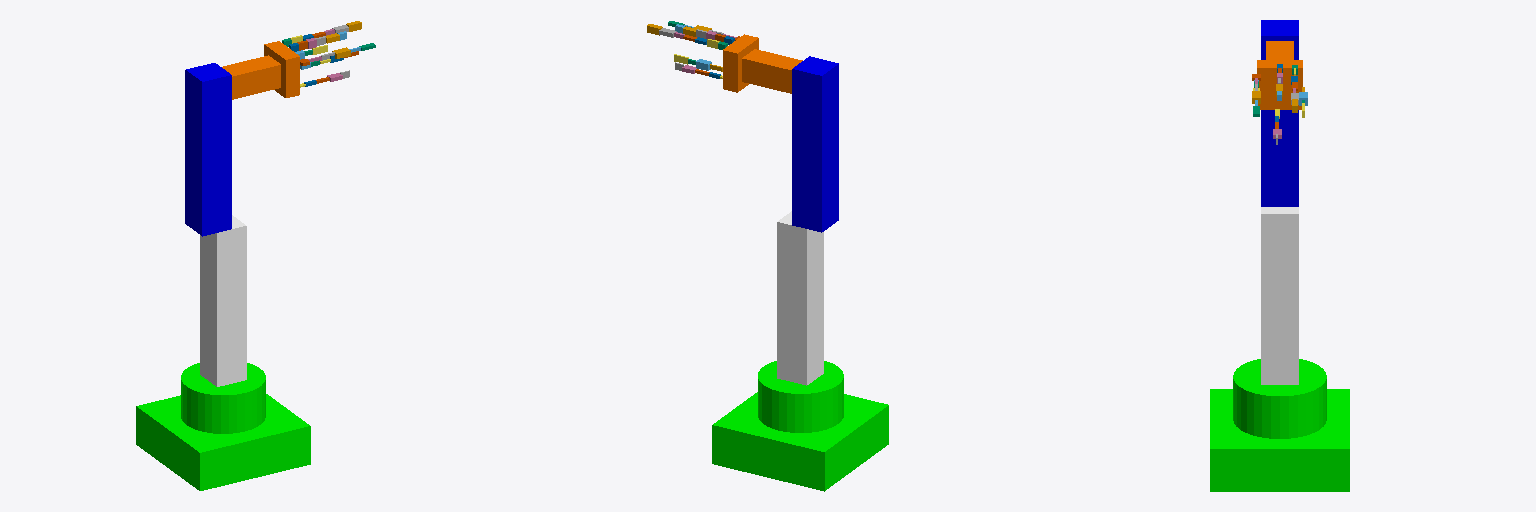
--- Render facts (derived) ---
The picture shows the robot from 3 angles, left to right: view 1: azimuth 30°, elevation 25°; view 2: azimuth 150°, elevation 25°; view 3: azimuth 270°, elevation 25°; orthographic projection.
Robot: robot — 38 links, 37 joints (34 revolute, 1 continuous, 2 fixed); root link base_link; default pose: every joint at zero.
Links seen in each view (by area): view 1: base_link, arm_link, support_link, wrist_link, palm_link; view 2: base_link, arm_link, support_link, wrist_link, palm_link; view 3: base_link, support_link, arm_link, palm_link, wrist_link.
Boxes of the visible links, left/top/right/bottom form: base_link: left=136, top=363, right=310, bottom=490; arm_link: left=185, top=63, right=231, bottom=236; support_link: left=200, top=215, right=246, bottom=386; wrist_link: left=222, top=55, right=280, bottom=99; palm_link: left=264, top=41, right=299, bottom=97; base_link: left=712, top=361, right=888, bottom=491; arm_link: left=792, top=56, right=838, bottom=232; support_link: left=777, top=211, right=823, bottom=385; wrist_link: left=742, top=49, right=802, bottom=93; palm_link: left=723, top=34, right=758, bottom=92; base_link: left=1210, top=359, right=1349, bottom=491; support_link: left=1261, top=207, right=1298, bottom=384; arm_link: left=1261, top=20, right=1298, bottom=206; palm_link: left=1257, top=60, right=1302, bottom=109; wrist_link: left=1266, top=41, right=1293, bottom=59.
Size in the robot's own frame: 1.35 by 0.75 by 2.55 metres.
Geometry: primitives only (box / cylinder / sphere), no mesh files.

The robot description file, URDF, robot "robot":
<?xml version='1.0' encoding='utf-8'?>
<robot name="robot">
  <link name="base_link">
    <visual>
      <origin xyz="0 0 0.125" rpy="0 0 0" />
      <geometry>
        <box size="0.75 0.75 0.25" />
      </geometry>
      <material name="green" />
    </visual>
    <visual>
      <origin xyz="0 0 0.375" rpy="0 0 0" />
      <geometry>
        <cylinder length="0.25" radius="0.25" />
      </geometry>
      <material name="green">
        <color rgba="0 1 0 1" />
      </material>
    </visual>
    <collision>
      <geometry>
        <box size="0.75 0.75 0.5" />
      </geometry>
    </collision>
    <inertial>
      <mass value="0.5" />
      <inertia ixx="0.034" ixy="0.0" ixz="0.0" iyy="0.034" iyz="0.0" izz="0.034" />
    </inertial>
  </link>
  <link name="support_link">
    <visual>
      <origin xyz="0 0 0.5" rpy="0 0 0" />
      <geometry>
        <box size="0.2 0.2 1" />
      </geometry>
      <material name="white">
        <color rgba="1 1 1 1" />
      </material>
    </visual>
    <collision>
      <geometry>
        <box size="0.2 0.2 1" />
      </geometry>
    </collision>
    <inertial>
      <mass value="0.1" />
      <inertia ixx="0.01" ixy="0.0" ixz="0.0" iyy="0.01" iyz="0.0" izz="0.01" />
    </inertial>
  </link>
  <joint name="support_joint" type="continuous">
    <origin xyz="0 0 0.5" rpy="0 0 0" />
    <parent link="base_link" />
    <child link="support_link" />
    <axis xyz="0 0 1" />
  </joint>
  <link name="arm_link">
    <visual>
      <origin xyz="0 0 0.5" rpy="0 0 0" />
      <geometry>
        <box size="0.2 0.2 1" />
      </geometry>
      <material name="blue">
        <color rgba="0 0 1 1" />
      </material>
    </visual>
    <collision>
      <geometry>
        <box size="0.2 0.2 1" />
      </geometry>
    </collision>
    <inertial>
      <mass value="0.1" />
      <inertia ixx="0.01" ixy="0.0" ixz="0.0" iyy="0.01" iyz="0.0" izz="0.01" />
    </inertial>
  </link>
  <joint name="arm_joint" type="revolute">
    <origin xyz="-0.1 0 1" rpy="0 0 0" />
    <parent link="support_link" />
    <child link="arm_link" />
    <axis xyz="0 1 0" />
    <limit lower="-3.14" upper="3.14" effort="1.0" velocity="1.0" />
  </joint>
  <link name="wrist_link">
    <visual>
      <origin xyz="0 0 0.25" rpy="0 0 0" />
      <geometry>
        <box size="0.15 0.15 0.5" />
      </geometry>
      <material name="orange">
        <color rgba="1 0.5 0 1" />
      </material>
    </visual>
    <collision>
      <geometry>
        <box size="0.15 0.15 0.5" />
      </geometry>
    </collision>
    <inertial>
      <mass value="0.1" />
      <inertia ixx="0.01" ixy="0.0" ixz="0.0" iyy="0.01" iyz="0.0" izz="0.01" />
    </inertial>
  </link>
  <joint name="wrist_joint" type="fixed">
    <origin xyz="0 0 0.9" rpy="0 1.571 0" />
    <parent link="arm_link" />
    <child link="wrist_link" />
  </joint>
  <link name="palm_link">
    <visual>
      <origin xyz="0 0 0.05" rpy="0 0 0" />
      <geometry>
        <box size="0.25 0.25 0.1" />
      </geometry>
      <material name="orange" />
    </visual>
    <collision>
      <geometry>
        <box size="0.25 0.25 0.1" />
      </geometry>
    </collision>
    <inertial>
      <mass value="0.1" />
      <inertia ixx="0.01" ixy="0.0" ixz="0.0" iyy="0.01" iyz="0.0" izz="0.01" />
    </inertial>
  </link>
  <joint name="palm_joint" type="fixed">
    <origin xyz="0 0 0.45" rpy="0 0 0" />
    <parent link="wrist_link" />
    <child link="palm_link" />
  </joint>
  <link name="finger_link_0_0">
    <visual>
      <origin xyz="0 0 0.0265" rpy="0 0 0" />
      <geometry>
        <box size="0.021 0.049 0.053" />
      </geometry>
    </visual>
    <collision>
      <geometry>
        <box size="0.021 0.049 0.053" />
      </geometry>
    </collision>
    <inertial>
      <mass value="0.016" />
      <inertia ixx="0.001" iyy="0.001" izz="0.001" ixy="0" ixz="0" iyz="0" />
    </inertial>
  </link>
  <joint name="finger_joint_palm_link_to_finger_link_0_0" type="revolute">
    <origin xyz="-0.08 -0.125 0.1" rpy="0 0 0" />
    <parent link="palm_link" />
    <child link="finger_link_0_0" />
    <axis xyz="1.0 0.0 0.0" />
    <limit lower="-3.142" upper="3.142" effort="10" velocity="10" />
  </joint>
  <link name="finger_link_0_1">
    <visual>
      <origin xyz="0 0 0.0435" rpy="0 0 0" />
      <geometry>
        <box size="0.024 0.012 0.087" />
      </geometry>
    </visual>
    <collision>
      <geometry>
        <box size="0.024 0.012 0.087" />
      </geometry>
    </collision>
    <inertial>
      <mass value="0.008" />
      <inertia ixx="0.001" iyy="0.001" izz="0.001" ixy="0" ixz="0" iyz="0" />
    </inertial>
  </link>
  <joint name="finger_joint_finger_link_0_0_to_finger_link_0_1" type="revolute">
    <origin xyz="0.0 0.0 0.053" rpy="0 0 0" />
    <parent link="finger_link_0_0" />
    <child link="finger_link_0_1" />
    <axis xyz="1.0 0.0 0.0" />
    <limit lower="-3.142" upper="3.142" effort="10" velocity="10" />
  </joint>
  <link name="finger_link_0_2">
    <visual>
      <origin xyz="0 0 0.0455" rpy="0 0 0" />
      <geometry>
        <box size="0.034 0.014 0.091" />
      </geometry>
    </visual>
    <collision>
      <geometry>
        <box size="0.034 0.014 0.091" />
      </geometry>
    </collision>
    <inertial>
      <mass value="0.013" />
      <inertia ixx="0.001" iyy="0.001" izz="0.001" ixy="0" ixz="0" iyz="0" />
    </inertial>
  </link>
  <joint name="finger_joint_finger_link_0_1_to_finger_link_0_2" type="revolute">
    <origin xyz="0.0 0.0 0.087" rpy="0 0 0" />
    <parent link="finger_link_0_1" />
    <child link="finger_link_0_2" />
    <axis xyz="1.0 0.0 0.0" />
    <limit lower="-3.142" upper="3.142" effort="10" velocity="10" />
  </joint>
  <link name="finger_link_0_3">
    <visual>
      <origin xyz="0 0 0.0475" rpy="0 0 0" />
      <geometry>
        <box size="0.036 0.049 0.095" />
      </geometry>
    </visual>
    <collision>
      <geometry>
        <box size="0.036 0.049 0.095" />
      </geometry>
    </collision>
    <inertial>
      <mass value="0.05" />
      <inertia ixx="0.001" iyy="0.001" izz="0.001" ixy="0" ixz="0" iyz="0" />
    </inertial>
  </link>
  <joint name="finger_joint_finger_link_0_2_to_finger_link_0_3" type="revolute">
    <origin xyz="0.0 0.0 0.091" rpy="0 0 0" />
    <parent link="finger_link_0_2" />
    <child link="finger_link_0_3" />
    <axis xyz="1.0 0.0 0.0" />
    <limit lower="-3.142" upper="3.142" effort="10" velocity="10" />
  </joint>
  <link name="finger_link_0_4">
    <visual>
      <origin xyz="0 0 0.04" rpy="0 0 0" />
      <geometry>
        <box size="0.02 0.012 0.08" />
      </geometry>
    </visual>
    <collision>
      <geometry>
        <box size="0.02 0.012 0.08" />
      </geometry>
    </collision>
    <inertial>
      <mass value="0.006" />
      <inertia ixx="0.001" iyy="0.001" izz="0.001" ixy="0" ixz="0" iyz="0" />
    </inertial>
  </link>
  <joint name="finger_joint_finger_link_0_3_to_finger_link_0_4" type="revolute">
    <origin xyz="0.0 0.0 0.095" rpy="0 0 0" />
    <parent link="finger_link_0_3" />
    <child link="finger_link_0_4" />
    <axis xyz="1.0 0.0 0.0" />
    <limit lower="-3.142" upper="3.142" effort="10" velocity="10" />
  </joint>
  <link name="finger_link_0_5">
    <visual>
      <origin xyz="0 0 0.0475" rpy="0 0 0" />
      <geometry>
        <box size="0.019 0.033 0.095" />
      </geometry>
    </visual>
    <collision>
      <geometry>
        <box size="0.019 0.033 0.095" />
      </geometry>
    </collision>
    <inertial>
      <mass value="0.018" />
      <inertia ixx="0.001" iyy="0.001" izz="0.001" ixy="0" ixz="0" iyz="0" />
    </inertial>
  </link>
  <joint name="finger_joint_finger_link_0_4_to_finger_link_0_5" type="revolute">
    <origin xyz="0.0 0.0 0.08" rpy="0 0 0" />
    <parent link="finger_link_0_4" />
    <child link="finger_link_0_5" />
    <axis xyz="1.0 0.0 0.0" />
    <limit lower="-3.142" upper="3.142" effort="10" velocity="10" />
  </joint>
  <link name="finger_link_1_0">
    <visual>
      <origin xyz="0 0 0.047" rpy="0 0 0" />
      <geometry>
        <box size="0.011 0.025 0.094" />
      </geometry>
    </visual>
    <collision>
      <geometry>
        <box size="0.011 0.025 0.094" />
      </geometry>
    </collision>
    <inertial>
      <mass value="0.008" />
      <inertia ixx="0.001" iyy="0.001" izz="0.001" ixy="0" ixz="0" iyz="0" />
    </inertial>
  </link>
  <joint name="finger_joint_palm_link_to_finger_link_1_0" type="revolute">
    <origin xyz="0.125 -0.014 0.1" rpy="0 0 0" />
    <parent link="palm_link" />
    <child link="finger_link_1_0" />
    <axis xyz="0.0 1.0 0.0" />
    <limit lower="-3.142" upper="3.142" effort="10" velocity="10" />
  </joint>
  <link name="finger_link_1_1">
    <visual>
      <origin xyz="0 0 0.0365" rpy="0 0 0" />
      <geometry>
        <box size="0.022 0.021 0.073" />
      </geometry>
    </visual>
    <collision>
      <geometry>
        <box size="0.022 0.021 0.073" />
      </geometry>
    </collision>
    <inertial>
      <mass value="0.01" />
      <inertia ixx="0.001" iyy="0.001" izz="0.001" ixy="0" ixz="0" iyz="0" />
    </inertial>
  </link>
  <joint name="finger_joint_finger_link_1_0_to_finger_link_1_1" type="revolute">
    <origin xyz="0.0 0.0 0.094" rpy="0 0 0" />
    <parent link="finger_link_1_0" />
    <child link="finger_link_1_1" />
    <axis xyz="0.0 1.0 0.0" />
    <limit lower="-3.142" upper="3.142" effort="10" velocity="10" />
  </joint>
  <link name="finger_link_1_2">
    <visual>
      <origin xyz="0 0 0.045" rpy="0 0 0" />
      <geometry>
        <box size="0.018 0.02 0.09" />
      </geometry>
    </visual>
    <collision>
      <geometry>
        <box size="0.018 0.02 0.09" />
      </geometry>
    </collision>
    <inertial>
      <mass value="0.01" />
      <inertia ixx="0.001" iyy="0.001" izz="0.001" ixy="0" ixz="0" iyz="0" />
    </inertial>
  </link>
  <joint name="finger_joint_finger_link_1_1_to_finger_link_1_2" type="revolute">
    <origin xyz="0.0 0.0 0.073" rpy="0 0 0" />
    <parent link="finger_link_1_1" />
    <child link="finger_link_1_2" />
    <axis xyz="0.0 1.0 0.0" />
    <limit lower="-3.142" upper="3.142" effort="10" velocity="10" />
  </joint>
  <link name="finger_link_1_3">
    <visual>
      <origin xyz="0 0 0.0405" rpy="0 0 0" />
      <geometry>
        <box size="0.024 0.046 0.081" />
      </geometry>
    </visual>
    <collision>
      <geometry>
        <box size="0.024 0.046 0.081" />
      </geometry>
    </collision>
    <inertial>
      <mass value="0.027" />
      <inertia ixx="0.001" iyy="0.001" izz="0.001" ixy="0" ixz="0" iyz="0" />
    </inertial>
  </link>
  <joint name="finger_joint_finger_link_1_2_to_finger_link_1_3" type="revolute">
    <origin xyz="0.0 0.0 0.09" rpy="0 0 0" />
    <parent link="finger_link_1_2" />
    <child link="finger_link_1_3" />
    <axis xyz="0.0 1.0 0.0" />
    <limit lower="-3.142" upper="3.142" effort="10" velocity="10" />
  </joint>
  <link name="finger_link_1_4">
    <visual>
      <origin xyz="0 0 0.03" rpy="0 0 0" />
      <geometry>
        <box size="0.041 0.01 0.06" />
      </geometry>
    </visual>
    <collision>
      <geometry>
        <box size="0.041 0.01 0.06" />
      </geometry>
    </collision>
    <inertial>
      <mass value="0.007" />
      <inertia ixx="0.001" iyy="0.001" izz="0.001" ixy="0" ixz="0" iyz="0" />
    </inertial>
  </link>
  <joint name="finger_joint_finger_link_1_3_to_finger_link_1_4" type="revolute">
    <origin xyz="0.0 0.0 0.081" rpy="0 0 0" />
    <parent link="finger_link_1_3" />
    <child link="finger_link_1_4" />
    <axis xyz="0.0 1.0 0.0" />
    <limit lower="-3.142" upper="3.142" effort="10" velocity="10" />
  </joint>
  <link name="finger_link_2_0">
    <visual>
      <origin xyz="0 0 0.041" rpy="0 0 0" />
      <geometry>
        <box size="0.026 0.011 0.082" />
      </geometry>
    </visual>
    <collision>
      <geometry>
        <box size="0.026 0.011 0.082" />
      </geometry>
    </collision>
    <inertial>
      <mass value="0.007" />
      <inertia ixx="0.001" iyy="0.001" izz="0.001" ixy="0" ixz="0" iyz="0" />
    </inertial>
  </link>
  <joint name="finger_joint_palm_link_to_finger_link_2_0" type="revolute">
    <origin xyz="-0.001 0.125 0.1" rpy="0 0 0" />
    <parent link="palm_link" />
    <child link="finger_link_2_0" />
    <axis xyz="-1.0 0.0 0.0" />
    <limit lower="-3.142" upper="3.142" effort="10" velocity="10" />
  </joint>
  <link name="finger_link_2_1">
    <visual>
      <origin xyz="0 0 0.0415" rpy="0 0 0" />
      <geometry>
        <box size="0.042 0.045 0.083" />
      </geometry>
    </visual>
    <collision>
      <geometry>
        <box size="0.042 0.045 0.083" />
      </geometry>
    </collision>
    <inertial>
      <mass value="0.047" />
      <inertia ixx="0.001" iyy="0.001" izz="0.001" ixy="0" ixz="0" iyz="0" />
    </inertial>
  </link>
  <joint name="finger_joint_finger_link_2_0_to_finger_link_2_1" type="revolute">
    <origin xyz="0.0 0.0 0.082" rpy="0 0 0" />
    <parent link="finger_link_2_0" />
    <child link="finger_link_2_1" />
    <axis xyz="-1.0 0.0 0.0" />
    <limit lower="-3.142" upper="3.142" effort="10" velocity="10" />
  </joint>
  <link name="finger_link_2_2">
    <visual>
      <origin xyz="0 0 0.0315" rpy="0 0 0" />
      <geometry>
        <box size="0.023 0.015 0.063" />
      </geometry>
    </visual>
    <collision>
      <geometry>
        <box size="0.023 0.015 0.063" />
      </geometry>
    </collision>
    <inertial>
      <mass value="0.007" />
      <inertia ixx="0.001" iyy="0.001" izz="0.001" ixy="0" ixz="0" iyz="0" />
    </inertial>
  </link>
  <joint name="finger_joint_finger_link_2_1_to_finger_link_2_2" type="revolute">
    <origin xyz="0.0 0.0 0.083" rpy="0 0 0" />
    <parent link="finger_link_2_1" />
    <child link="finger_link_2_2" />
    <axis xyz="-1.0 0.0 0.0" />
    <limit lower="-3.142" upper="3.142" effort="10" velocity="10" />
  </joint>
  <link name="finger_link_2_3">
    <visual>
      <origin xyz="0 0 0.0485" rpy="0 0 0" />
      <geometry>
        <box size="0.042 0.011 0.097" />
      </geometry>
    </visual>
    <collision>
      <geometry>
        <box size="0.042 0.011 0.097" />
      </geometry>
    </collision>
    <inertial>
      <mass value="0.013" />
      <inertia ixx="0.001" iyy="0.001" izz="0.001" ixy="0" ixz="0" iyz="0" />
    </inertial>
  </link>
  <joint name="finger_joint_finger_link_2_2_to_finger_link_2_3" type="revolute">
    <origin xyz="0.0 0.0 0.063" rpy="0 0 0" />
    <parent link="finger_link_2_2" />
    <child link="finger_link_2_3" />
    <axis xyz="-1.0 0.0 0.0" />
    <limit lower="-3.142" upper="3.142" effort="10" velocity="10" />
  </joint>
  <link name="finger_link_3_0">
    <visual>
      <origin xyz="0 0 0.0265" rpy="0 0 0" />
      <geometry>
        <box size="0.041 0.032 0.053" />
      </geometry>
    </visual>
    <collision>
      <geometry>
        <box size="0.041 0.032 0.053" />
      </geometry>
    </collision>
    <inertial>
      <mass value="0.021" />
      <inertia ixx="0.001" iyy="0.001" izz="0.001" ixy="0" ixz="0" iyz="0" />
    </inertial>
  </link>
  <joint name="finger_joint_palm_link_to_finger_link_3_0" type="revolute">
    <origin xyz="-0.125 -0.001 0.1" rpy="0 0 0" />
    <parent link="palm_link" />
    <child link="finger_link_3_0" />
    <axis xyz="0.0 -1.0 0.0" />
    <limit lower="-3.142" upper="3.142" effort="10" velocity="10" />
  </joint>
  <link name="finger_link_3_1">
    <visual>
      <origin xyz="0 0 0.032" rpy="0 0 0" />
      <geometry>
        <box size="0.046 0.021 0.064" />
      </geometry>
    </visual>
    <collision>
      <geometry>
        <box size="0.046 0.021 0.064" />
      </geometry>
    </collision>
    <inertial>
      <mass value="0.019" />
      <inertia ixx="0.001" iyy="0.001" izz="0.001" ixy="0" ixz="0" iyz="0" />
    </inertial>
  </link>
  <joint name="finger_joint_finger_link_3_0_to_finger_link_3_1" type="revolute">
    <origin xyz="0.0 0.0 0.053" rpy="0 0 0" />
    <parent link="finger_link_3_0" />
    <child link="finger_link_3_1" />
    <axis xyz="0.0 -1.0 0.0" />
    <limit lower="-3.142" upper="3.142" effort="10" velocity="10" />
  </joint>
  <link name="finger_link_3_2">
    <visual>
      <origin xyz="0 0 0.0275" rpy="0 0 0" />
      <geometry>
        <box size="0.049 0.034 0.055" />
      </geometry>
    </visual>
    <collision>
      <geometry>
        <box size="0.049 0.034 0.055" />
      </geometry>
    </collision>
    <inertial>
      <mass value="0.027" />
      <inertia ixx="0.001" iyy="0.001" izz="0.001" ixy="0" ixz="0" iyz="0" />
    </inertial>
  </link>
  <joint name="finger_joint_finger_link_3_1_to_finger_link_3_2" type="revolute">
    <origin xyz="0.0 0.0 0.064" rpy="0 0 0" />
    <parent link="finger_link_3_1" />
    <child link="finger_link_3_2" />
    <axis xyz="0.0 -1.0 0.0" />
    <limit lower="-3.142" upper="3.142" effort="10" velocity="10" />
  </joint>
  <link name="finger_link_3_3">
    <visual>
      <origin xyz="0 0 0.0355" rpy="0 0 0" />
      <geometry>
        <box size="0.045 0.017 0.071" />
      </geometry>
    </visual>
    <collision>
      <geometry>
        <box size="0.045 0.017 0.071" />
      </geometry>
    </collision>
    <inertial>
      <mass value="0.016" />
      <inertia ixx="0.001" iyy="0.001" izz="0.001" ixy="0" ixz="0" iyz="0" />
    </inertial>
  </link>
  <joint name="finger_joint_finger_link_3_2_to_finger_link_3_3" type="revolute">
    <origin xyz="0.0 0.0 0.055" rpy="0 0 0" />
    <parent link="finger_link_3_2" />
    <child link="finger_link_3_3" />
    <axis xyz="0.0 -1.0 0.0" />
    <limit lower="-3.142" upper="3.142" effort="10" velocity="10" />
  </joint>
  <link name="finger_link_3_4">
    <visual>
      <origin xyz="0 0 0.043" rpy="0 0 0" />
      <geometry>
        <box size="0.033 0.038 0.086" />
      </geometry>
    </visual>
    <collision>
      <geometry>
        <box size="0.033 0.038 0.086" />
      </geometry>
    </collision>
    <inertial>
      <mass value="0.032" />
      <inertia ixx="0.001" iyy="0.001" izz="0.001" ixy="0" ixz="0" iyz="0" />
    </inertial>
  </link>
  <joint name="finger_joint_finger_link_3_3_to_finger_link_3_4" type="revolute">
    <origin xyz="0.0 0.0 0.071" rpy="0 0 0" />
    <parent link="finger_link_3_3" />
    <child link="finger_link_3_4" />
    <axis xyz="0.0 -1.0 0.0" />
    <limit lower="-3.142" upper="3.142" effort="10" velocity="10" />
  </joint>
  <link name="finger_link_3_5">
    <visual>
      <origin xyz="0 0 0.026" rpy="0 0 0" />
      <geometry>
        <box size="0.04 0.025 0.052" />
      </geometry>
    </visual>
    <collision>
      <geometry>
        <box size="0.04 0.025 0.052" />
      </geometry>
    </collision>
    <inertial>
      <mass value="0.016" />
      <inertia ixx="0.001" iyy="0.001" izz="0.001" ixy="0" ixz="0" iyz="0" />
    </inertial>
  </link>
  <joint name="finger_joint_finger_link_3_4_to_finger_link_3_5" type="revolute">
    <origin xyz="0.0 0.0 0.086" rpy="0 0 0" />
    <parent link="finger_link_3_4" />
    <child link="finger_link_3_5" />
    <axis xyz="0.0 -1.0 0.0" />
    <limit lower="-3.142" upper="3.142" effort="10" velocity="10" />
  </joint>
  <link name="finger_link_4_0">
    <visual>
      <origin xyz="0 0 0.0255" rpy="0 0 0" />
      <geometry>
        <box size="0.036 0.032 0.051" />
      </geometry>
    </visual>
    <collision>
      <geometry>
        <box size="0.036 0.032 0.051" />
      </geometry>
    </collision>
    <inertial>
      <mass value="0.018" />
      <inertia ixx="0.001" iyy="0.001" izz="0.001" ixy="0" ixz="0" iyz="0" />
    </inertial>
  </link>
  <joint name="finger_joint_palm_link_to_finger_link_4_0" type="revolute">
    <origin xyz="-0.125 0.079 0.1" rpy="0 0 0" />
    <parent link="palm_link" />
    <child link="finger_link_4_0" />
    <axis xyz="0.0 -1.0 0.0" />
    <limit lower="-3.142" upper="3.142" effort="10" velocity="10" />
  </joint>
  <link name="finger_link_4_1">
    <visual>
      <origin xyz="0 0 0.039" rpy="0 0 0" />
      <geometry>
        <box size="0.046 0.014 0.078" />
      </geometry>
    </visual>
    <collision>
      <geometry>
        <box size="0.046 0.014 0.078" />
      </geometry>
    </collision>
    <inertial>
      <mass value="0.015" />
      <inertia ixx="0.001" iyy="0.001" izz="0.001" ixy="0" ixz="0" iyz="0" />
    </inertial>
  </link>
  <joint name="finger_joint_finger_link_4_0_to_finger_link_4_1" type="revolute">
    <origin xyz="0.0 0.0 0.051" rpy="0 0 0" />
    <parent link="finger_link_4_0" />
    <child link="finger_link_4_1" />
    <axis xyz="0.0 -1.0 0.0" />
    <limit lower="-3.142" upper="3.142" effort="10" velocity="10" />
  </joint>
  <link name="finger_link_4_2">
    <visual>
      <origin xyz="0 0 0.0345" rpy="0 0 0" />
      <geometry>
        <box size="0.02 0.039 0.069" />
      </geometry>
    </visual>
    <collision>
      <geometry>
        <box size="0.02 0.039 0.069" />
      </geometry>
    </collision>
    <inertial>
      <mass value="0.016" />
      <inertia ixx="0.001" iyy="0.001" izz="0.001" ixy="0" ixz="0" iyz="0" />
    </inertial>
  </link>
  <joint name="finger_joint_finger_link_4_1_to_finger_link_4_2" type="revolute">
    <origin xyz="0.0 0.0 0.078" rpy="0 0 0" />
    <parent link="finger_link_4_1" />
    <child link="finger_link_4_2" />
    <axis xyz="0.0 -1.0 0.0" />
    <limit lower="-3.142" upper="3.142" effort="10" velocity="10" />
  </joint>
  <link name="finger_link_4_3">
    <visual>
      <origin xyz="0 0 0.041" rpy="0 0 0" />
      <geometry>
        <box size="0.016 0.029 0.082" />
      </geometry>
    </visual>
    <collision>
      <geometry>
        <box size="0.016 0.029 0.082" />
      </geometry>
    </collision>
    <inertial>
      <mass value="0.011" />
      <inertia ixx="0.001" iyy="0.001" izz="0.001" ixy="0" ixz="0" iyz="0" />
    </inertial>
  </link>
  <joint name="finger_joint_finger_link_4_2_to_finger_link_4_3" type="revolute">
    <origin xyz="0.0 0.0 0.069" rpy="0 0 0" />
    <parent link="finger_link_4_2" />
    <child link="finger_link_4_3" />
    <axis xyz="0.0 -1.0 0.0" />
    <limit lower="-3.142" upper="3.142" effort="10" velocity="10" />
  </joint>
  <link name="finger_link_4_4">
    <visual>
      <origin xyz="0 0 0.033" rpy="0 0 0" />
      <geometry>
        <box size="0.026 0.017 0.066" />
      </geometry>
    </visual>
    <collision>
      <geometry>
        <box size="0.026 0.017 0.066" />
      </geometry>
    </collision>
    <inertial>
      <mass value="0.009" />
      <inertia ixx="0.001" iyy="0.001" izz="0.001" ixy="0" ixz="0" iyz="0" />
    </inertial>
  </link>
  <joint name="finger_joint_finger_link_4_3_to_finger_link_4_4" type="revolute">
    <origin xyz="0.0 0.0 0.082" rpy="0 0 0" />
    <parent link="finger_link_4_3" />
    <child link="finger_link_4_4" />
    <axis xyz="0.0 -1.0 0.0" />
    <limit lower="-3.142" upper="3.142" effort="10" velocity="10" />
  </joint>
  <link name="finger_link_4_5">
    <visual>
      <origin xyz="0 0 0.0455" rpy="0 0 0" />
      <geometry>
        <box size="0.027 0.044 0.091" />
      </geometry>
    </visual>
    <collision>
      <geometry>
        <box size="0.027 0.044 0.091" />
      </geometry>
    </collision>
    <inertial>
      <mass value="0.032" />
      <inertia ixx="0.001" iyy="0.001" izz="0.001" ixy="0" ixz="0" iyz="0" />
    </inertial>
  </link>
  <joint name="finger_joint_finger_link_4_4_to_finger_link_4_5" type="revolute">
    <origin xyz="0.0 0.0 0.066" rpy="0 0 0" />
    <parent link="finger_link_4_4" />
    <child link="finger_link_4_5" />
    <axis xyz="0.0 -1.0 0.0" />
    <limit lower="-3.142" upper="3.142" effort="10" velocity="10" />
  </joint>
  <link name="finger_link_4_6">
    <visual>
      <origin xyz="0 0 0.0435" rpy="0 0 0" />
      <geometry>
        <box size="0.043 0.035 0.087" />
      </geometry>
    </visual>
    <collision>
      <geometry>
        <box size="0.043 0.035 0.087" />
      </geometry>
    </collision>
    <inertial>
      <mass value="0.039" />
      <inertia ixx="0.001" iyy="0.001" izz="0.001" ixy="0" ixz="0" iyz="0" />
    </inertial>
  </link>
  <joint name="finger_joint_finger_link_4_5_to_finger_link_4_6" type="revolute">
    <origin xyz="0.0 0.0 0.091" rpy="0 0 0" />
    <parent link="finger_link_4_5" />
    <child link="finger_link_4_6" />
    <axis xyz="0.0 -1.0 0.0" />
    <limit lower="-3.142" upper="3.142" effort="10" velocity="10" />
  </joint>
  <link name="finger_link_5_0">
    <visual>
      <origin xyz="0 0 0.0325" rpy="0 0 0" />
      <geometry>
        <box size="0.032 0.031 0.065" />
      </geometry>
    </visual>
    <collision>
      <geometry>
        <box size="0.032 0.031 0.065" />
      </geometry>
    </collision>
    <inertial>
      <mass value="0.019" />
      <inertia ixx="0.001" iyy="0.001" izz="0.001" ixy="0" ixz="0" iyz="0" />
    </inertial>
  </link>
  <joint name="finger_joint_palm_link_to_finger_link_5_0" type="revolute">
    <origin xyz="-0.06 -0.125 0.1" rpy="0 0 0" />
    <parent link="palm_link" />
    <child link="finger_link_5_0" />
    <axis xyz="1.0 0.0 0.0" />
    <limit lower="-3.142" upper="3.142" effort="10" velocity="10" />
  </joint>
  <link name="finger_link_5_1">
    <visual>
      <origin xyz="0 0 0.0305" rpy="0 0 0" />
      <geometry>
        <box size="0.027 0.026 0.061" />
      </geometry>
    </visual>
    <collision>
      <geometry>
        <box size="0.027 0.026 0.061" />
      </geometry>
    </collision>
    <inertial>
      <mass value="0.013" />
      <inertia ixx="0.001" iyy="0.001" izz="0.001" ixy="0" ixz="0" iyz="0" />
    </inertial>
  </link>
  <joint name="finger_joint_finger_link_5_0_to_finger_link_5_1" type="revolute">
    <origin xyz="0.0 0.0 0.065" rpy="0 0 0" />
    <parent link="finger_link_5_0" />
    <child link="finger_link_5_1" />
    <axis xyz="1.0 0.0 0.0" />
    <limit lower="-3.142" upper="3.142" effort="10" velocity="10" />
  </joint>
  <link name="finger_link_5_2">
    <visual>
      <origin xyz="0 0 0.0365" rpy="0 0 0" />
      <geometry>
        <box size="0.014 0.038 0.073" />
      </geometry>
    </visual>
    <collision>
      <geometry>
        <box size="0.014 0.038 0.073" />
      </geometry>
    </collision>
    <inertial>
      <mass value="0.012" />
      <inertia ixx="0.001" iyy="0.001" izz="0.001" ixy="0" ixz="0" iyz="0" />
    </inertial>
  </link>
  <joint name="finger_joint_finger_link_5_1_to_finger_link_5_2" type="revolute">
    <origin xyz="0.0 0.0 0.061" rpy="0 0 0" />
    <parent link="finger_link_5_1" />
    <child link="finger_link_5_2" />
    <axis xyz="1.0 0.0 0.0" />
    <limit lower="-3.142" upper="3.142" effort="10" velocity="10" />
  </joint>
  <link name="finger_link_5_3">
    <visual>
      <origin xyz="0 0 0.046" rpy="0 0 0" />
      <geometry>
        <box size="0.044 0.018 0.092" />
      </geometry>
    </visual>
    <collision>
      <geometry>
        <box size="0.044 0.018 0.092" />
      </geometry>
    </collision>
    <inertial>
      <mass value="0.022" />
      <inertia ixx="0.001" iyy="0.001" izz="0.001" ixy="0" ixz="0" iyz="0" />
    </inertial>
  </link>
  <joint name="finger_joint_finger_link_5_2_to_finger_link_5_3" type="revolute">
    <origin xyz="0.0 0.0 0.073" rpy="0 0 0" />
    <parent link="finger_link_5_2" />
    <child link="finger_link_5_3" />
    <axis xyz="1.0 0.0 0.0" />
    <limit lower="-3.142" upper="3.142" effort="10" velocity="10" />
  </joint>
  <link name="finger_link_5_4">
    <visual>
      <origin xyz="0 0 0.05" rpy="0 0 0" />
      <geometry>
        <box size="0.024 0.018 0.1" />
      </geometry>
    </visual>
    <collision>
      <geometry>
        <box size="0.024 0.018 0.1" />
      </geometry>
    </collision>
    <inertial>
      <mass value="0.013" />
      <inertia ixx="0.001" iyy="0.001" izz="0.001" ixy="0" ixz="0" iyz="0" />
    </inertial>
  </link>
  <joint name="finger_joint_finger_link_5_3_to_finger_link_5_4" type="revolute">
    <origin xyz="0.0 0.0 0.092" rpy="0 0 0" />
    <parent link="finger_link_5_3" />
    <child link="finger_link_5_4" />
    <axis xyz="1.0 0.0 0.0" />
    <limit lower="-3.142" upper="3.142" effort="10" velocity="10" />
  </joint>
</robot>
